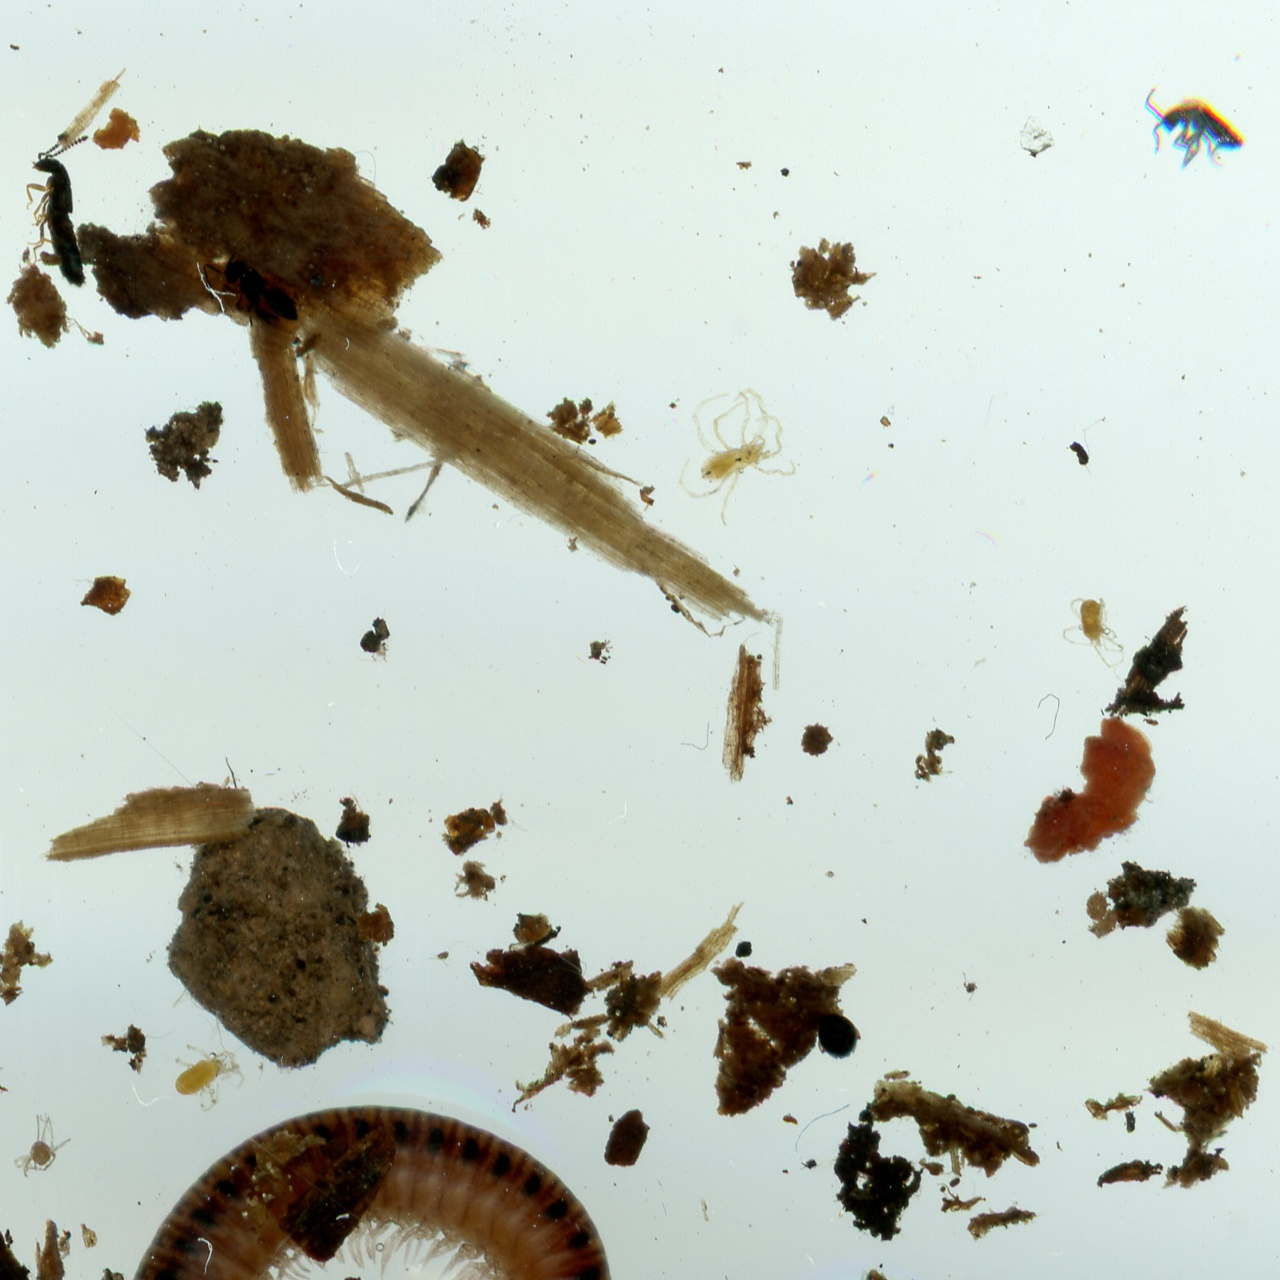arthropod: (88, 1093, 623, 1280), (645, 368, 819, 542), (189, 233, 313, 355), (22, 128, 94, 290), (156, 1022, 256, 1122), (1143, 82, 1248, 172), (1050, 585, 1137, 685), (801, 999, 872, 1073), (12, 1110, 74, 1178)
